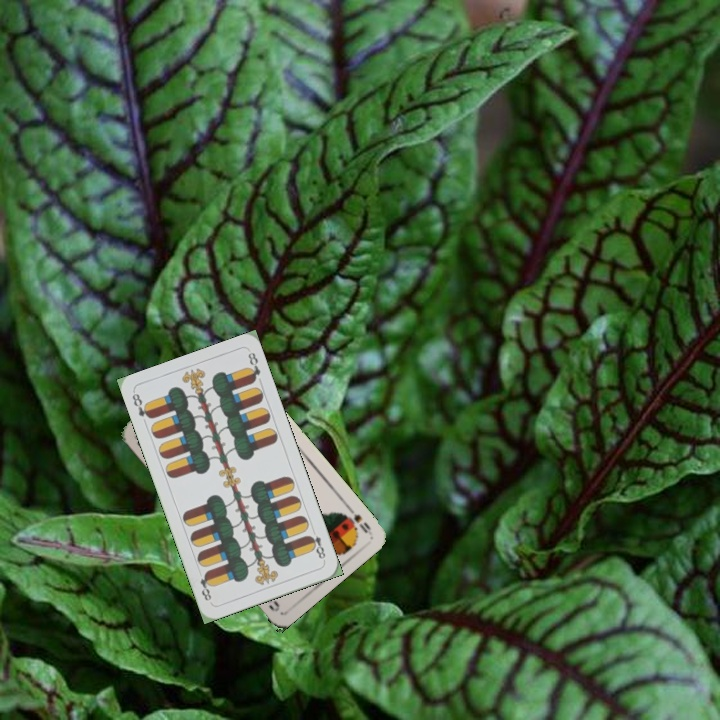E8: (304, 524, 328, 564), (128, 389, 154, 421)
SO: (341, 502, 374, 536)
